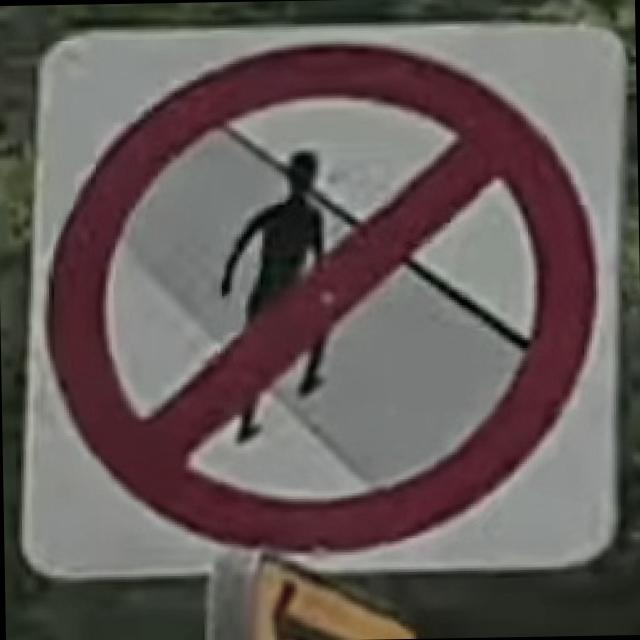nojaywalking_sign: (6, 15, 634, 586)
